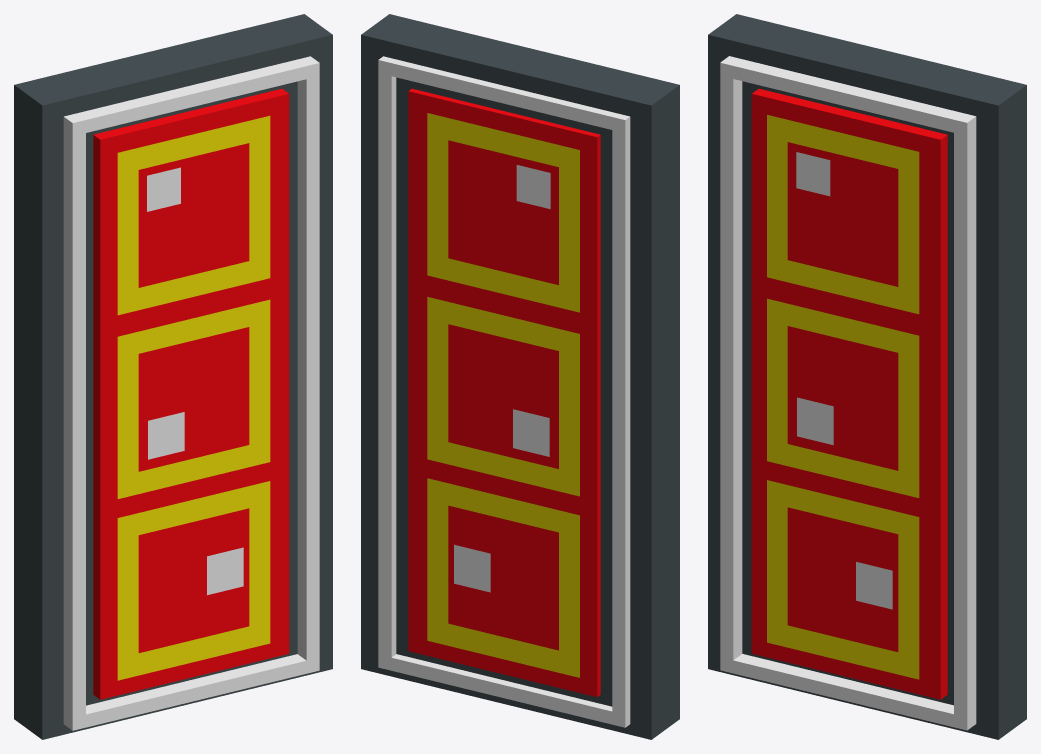
File: Signboard 06.FBX
3 views of the same model, side by side, from view 1: azimuth 30°, elevation 25°; view 2: azimuth 150°, elevation 25°; view 3: azimuth 330°, elevation 25° (orthographic).
Visible parts, largest first — view 1: Signboard 06; view 2: Signboard 06; view 3: Signboard 06.
Boxes of the visible parts, bbox=[...] form: Signboard 06: bbox=[14, 14, 332, 739]; Signboard 06: bbox=[361, 14, 679, 739]; Signboard 06: bbox=[708, 14, 1026, 739].
Size of the model in its own units: 100 by 210 by 25.45.
